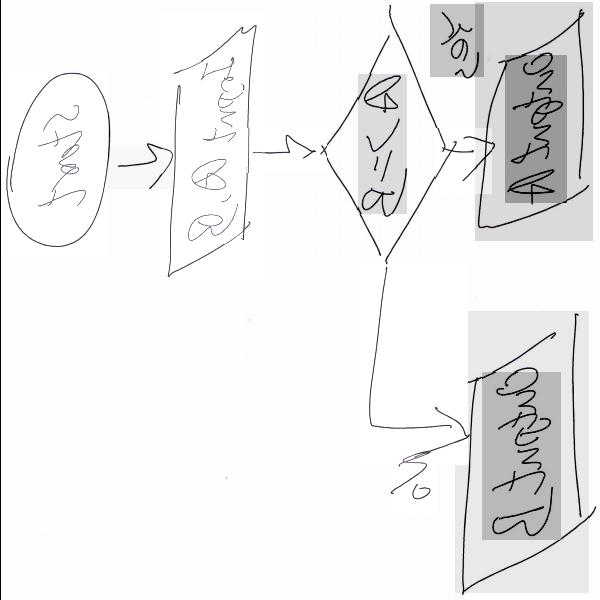arrow: (360, 265, 467, 465), (434, 128, 491, 194), (246, 128, 326, 173), (106, 145, 172, 189)
data: (454, 311, 588, 593), (475, 3, 592, 241), (161, 12, 263, 280)
decision: (317, 15, 445, 262)
terminator: (0, 72, 107, 256)
text: (481, 372, 560, 540), (182, 61, 242, 244), (504, 55, 566, 203), (357, 74, 406, 214), (34, 105, 87, 217), (429, 4, 483, 77), (391, 454, 436, 513)
